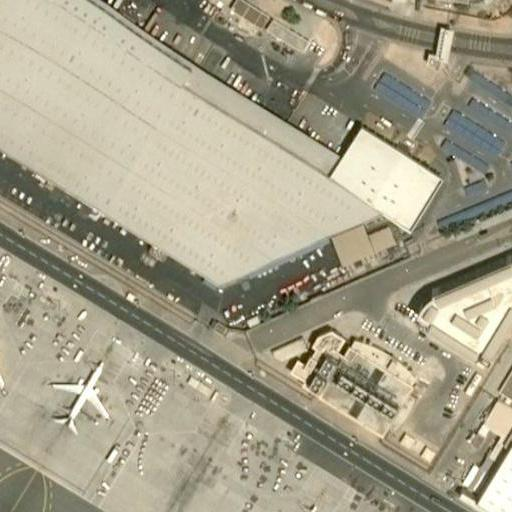Aircraft: (48, 356, 110, 436), (0, 272, 7, 409), (261, 503, 323, 512)
